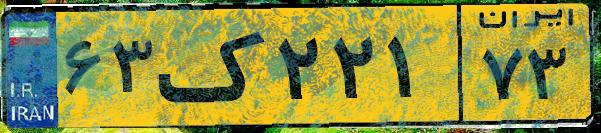1: (385, 28, 445, 110)
2: (270, 28, 330, 110), (330, 28, 385, 110)
3: (525, 38, 570, 115), (110, 28, 158, 98)
6: (57, 26, 110, 100)
7: (475, 38, 525, 113)
ک: (158, 12, 270, 120)
